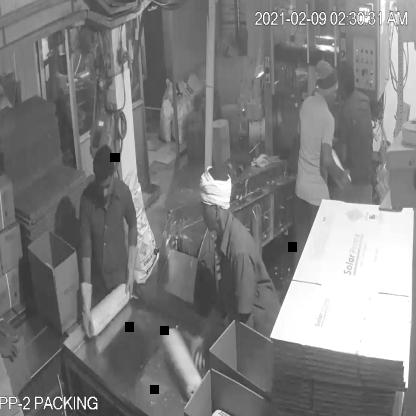glove: (180, 295, 232, 374), (72, 271, 102, 347), (116, 222, 144, 300)
no_glove: (320, 134, 359, 198)
